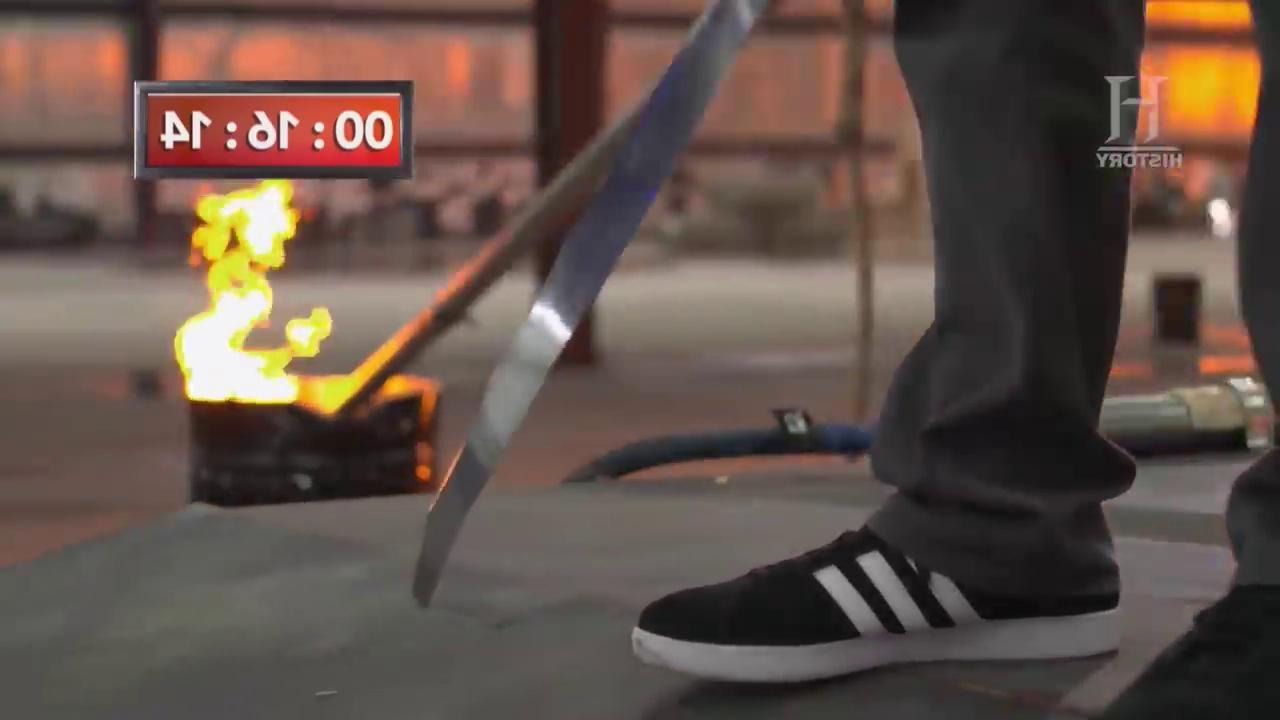Fire: (172, 188, 319, 402), (1168, 9, 1245, 132)
